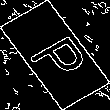P_NE: (19, 26, 91, 84)
